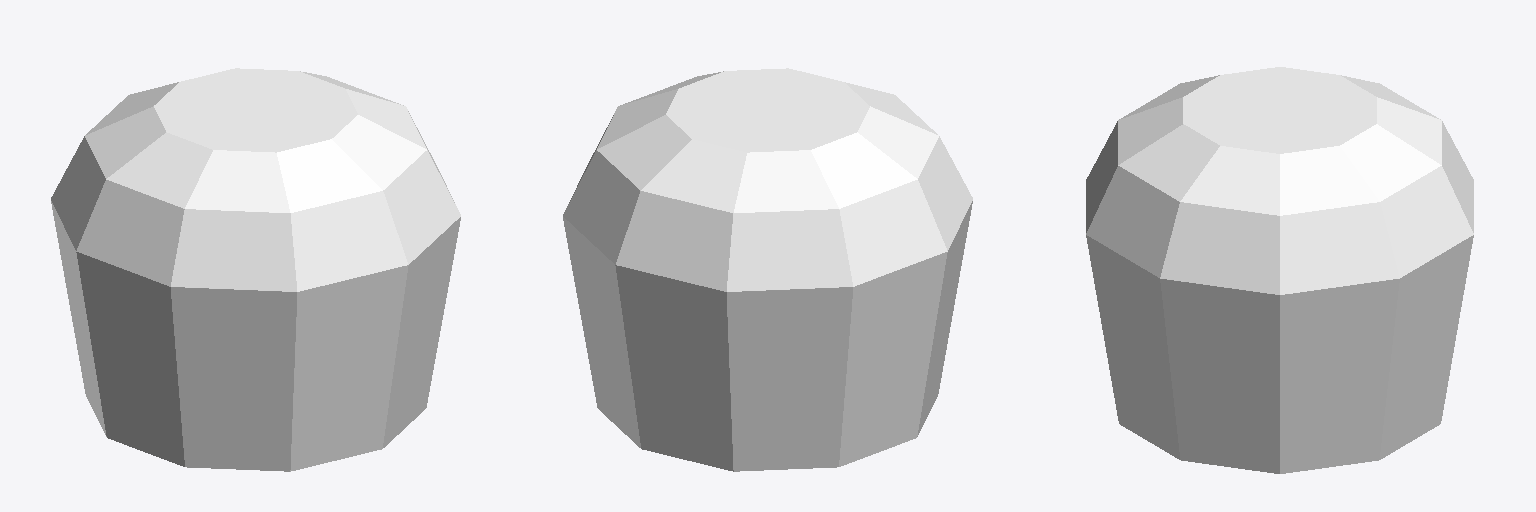
The model's file is sponge.obj.
3 views of the same model, side by side, from view 1: azimuth 30°, elevation 25°; view 2: azimuth 150°, elevation 25°; view 3: azimuth 270°, elevation 25° (orthographic).
Visible parts, largest first — view 1: g0; view 2: g0; view 3: g0.
Part boxes in pixels (x1,y1,x2,y2): g0: (51, 68, 460, 471); g0: (563, 68, 972, 471); g0: (1086, 67, 1473, 473).
Bounding box in the file's own units: 0.8626 × 0.6672 × 0.8063.